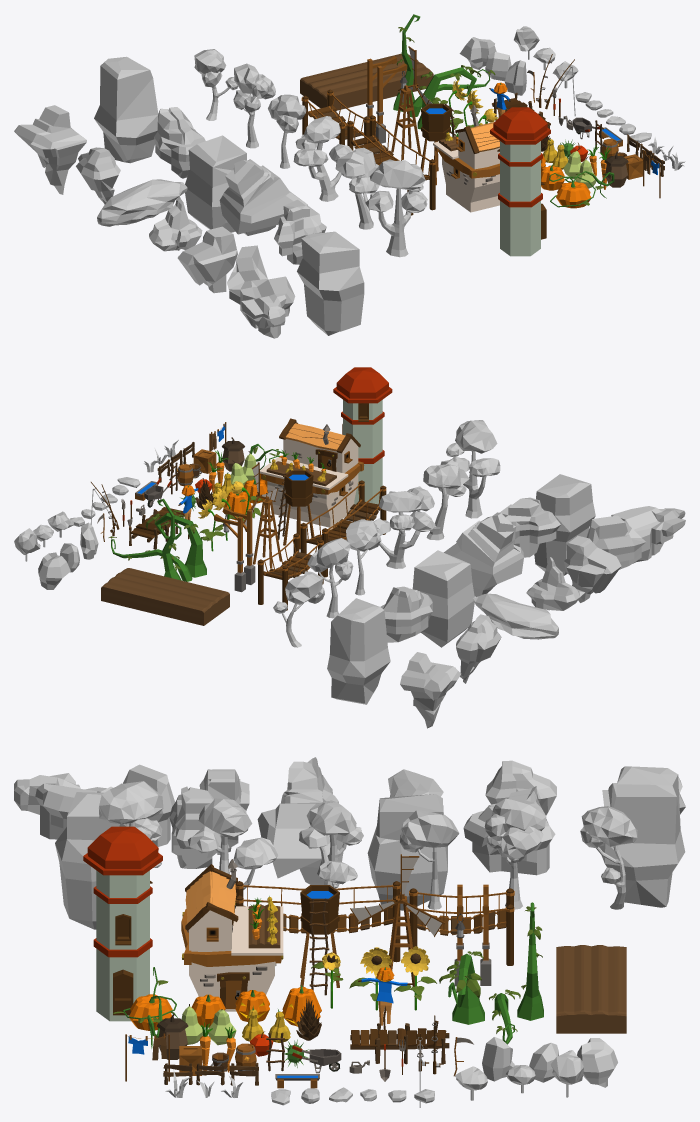
Rendered from Jacks.fbx.
3 views of the same model, one above another, from view 1: azimuth 30°, elevation 25°; view 2: azimuth 150°, elevation 25°; view 3: azimuth 270°, elevation 25° (orthographic). The views are drawn at different scales.
Parts seen in each view (by area): view 1: scilo, Mountain_11, Mountain_12, house, Mountain_1, Mountain_4, Mountain_10, ground, Flat_tree_1, Mountain_3, Mountain_6, Mountain_7 (+22 smaller); view 2: house, Mountain_12, ground, scilo, Mountain_10, Mountain_4, Mountain_1, Mountain_11, Flat_tree_1, Mountain_3, Mountain_6, Flat_tree_2 (+20 smaller); view 3: scilo, house, Mountain_12, ground, Mountain_10, Mountain_1, Mountain_11, Mountain_4, Flat_tree_3, Tree_1, Flat_tree_2, Mountain_9 (+36 smaller).
Boxes of the visible parts, <box> form: scilo: <box>490,107,550,256</box>; Mountain_11: <box>297,231,364,335</box>; Mountain_12: <box>94,56,158,163</box>; house: <box>433,105,542,212</box>; Mountain_1: <box>219,159,307,235</box>; Mountain_4: <box>227,245,295,338</box>; Mountain_10: <box>185,135,246,232</box>; ground: <box>300,53,433,110</box>; Flat_tree_1: <box>365,159,427,257</box>; Mountain_3: <box>14,105,86,194</box>; Mountain_6: <box>97,179,187,226</box>; Mountain_7: <box>177,226,237,293</box>; house: <box>260,418,364,527</box>; Mountain_12: <box>327,598,390,704</box>; ground: <box>101,568,229,625</box>; scilo: <box>333,367,392,504</box>; Mountain_10: <box>412,550,474,647</box>; Mountain_4: <box>586,506,685,569</box>; Mountain_1: <box>444,512,523,596</box>; Mountain_11: <box>534,474,595,575</box>; Flat_tree_1: <box>440,420,500,518</box>; Mountain_3: <box>400,652,461,728</box>; Mountain_6: <box>473,593,558,639</box>; Flat_tree_2: <box>373,491,435,568</box>; scilo: <box>83,826,162,1021</box>; house: <box>181,859,283,1011</box>; Mountain_12: <box>599,766,685,907</box>; ground: <box>556,945,626,1033</box>; Mountain_10: <box>367,794,447,910</box>; Mountain_1: <box>257,761,343,884</box>; Mountain_11: <box>55,792,120,929</box>; Mountain_4: <box>14,764,175,846</box>; Flat_tree_3: <box>188,798,277,905</box>; Tree_1: <box>484,798,546,909</box>; Flat_tree_2: <box>299,800,363,913</box>; Mountain_9: <box>463,786,555,875</box>.
Size of the model in its own units: 11668 by 3638 by 10291.
